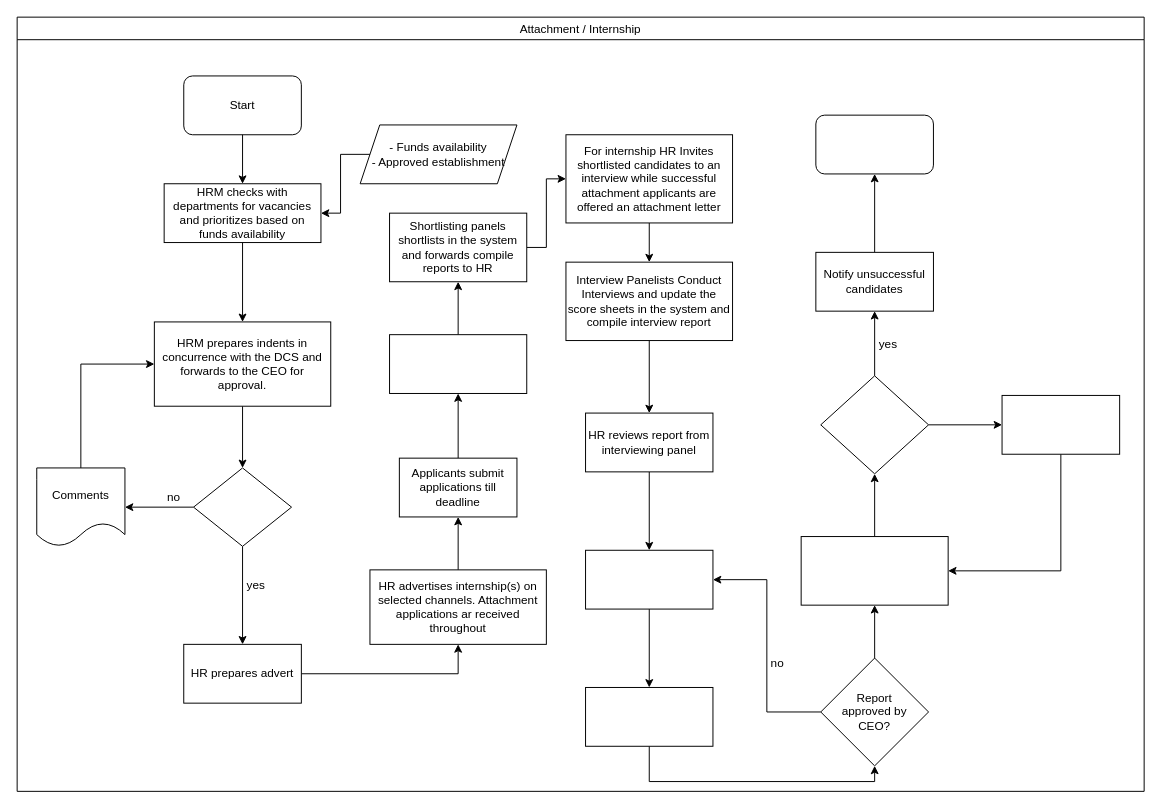
This 1161x809 diagram has some shape labels left out. Each missing label, with the box of its shape:
Candidate Accepts offer?: (820, 375, 929, 474)
CEO Approved?: (193, 467, 292, 546)
Communication to the Successful Candidate through email/ sms/ call: (800, 536, 948, 605)
DCS/ CEO appoints shortlisting committee and interview panel: (389, 334, 527, 393)
End: (815, 114, 933, 174)
HR conducts reference checks of the successful candidate(s): (585, 549, 713, 609)
Identify next best candidate: (1001, 394, 1120, 454)
Share update recruitment report and recommendation to the CEO: (585, 686, 713, 746)
